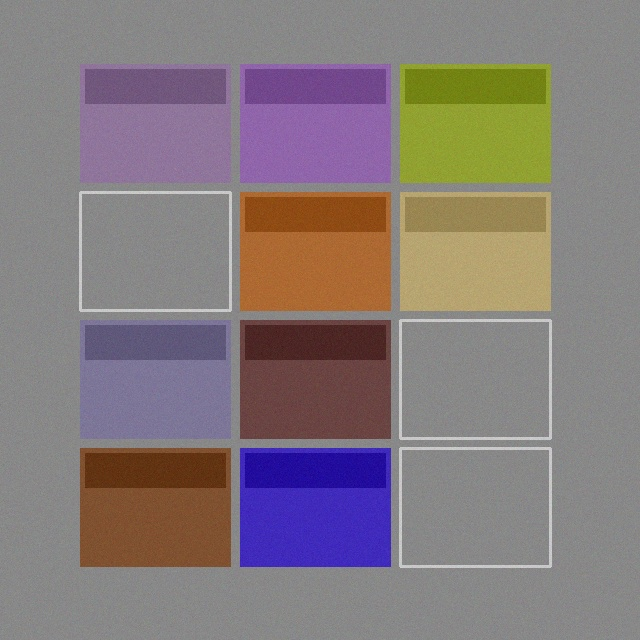space-empty: (80, 192, 230, 310), (400, 320, 550, 438), (400, 448, 550, 566)
space-occupied: (80, 64, 230, 182), (240, 64, 390, 182), (400, 64, 550, 182), (240, 192, 390, 310), (400, 192, 550, 310), (80, 320, 230, 438), (240, 320, 390, 438), (80, 448, 230, 566), (240, 448, 390, 566)
